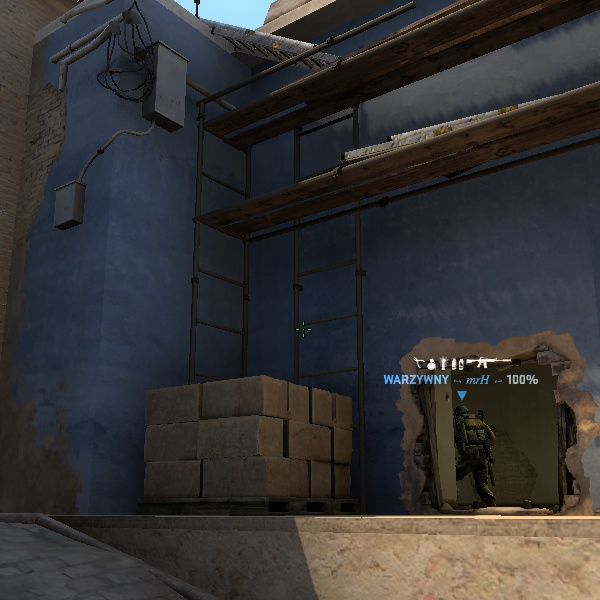ct_body: (445, 387, 511, 508)
